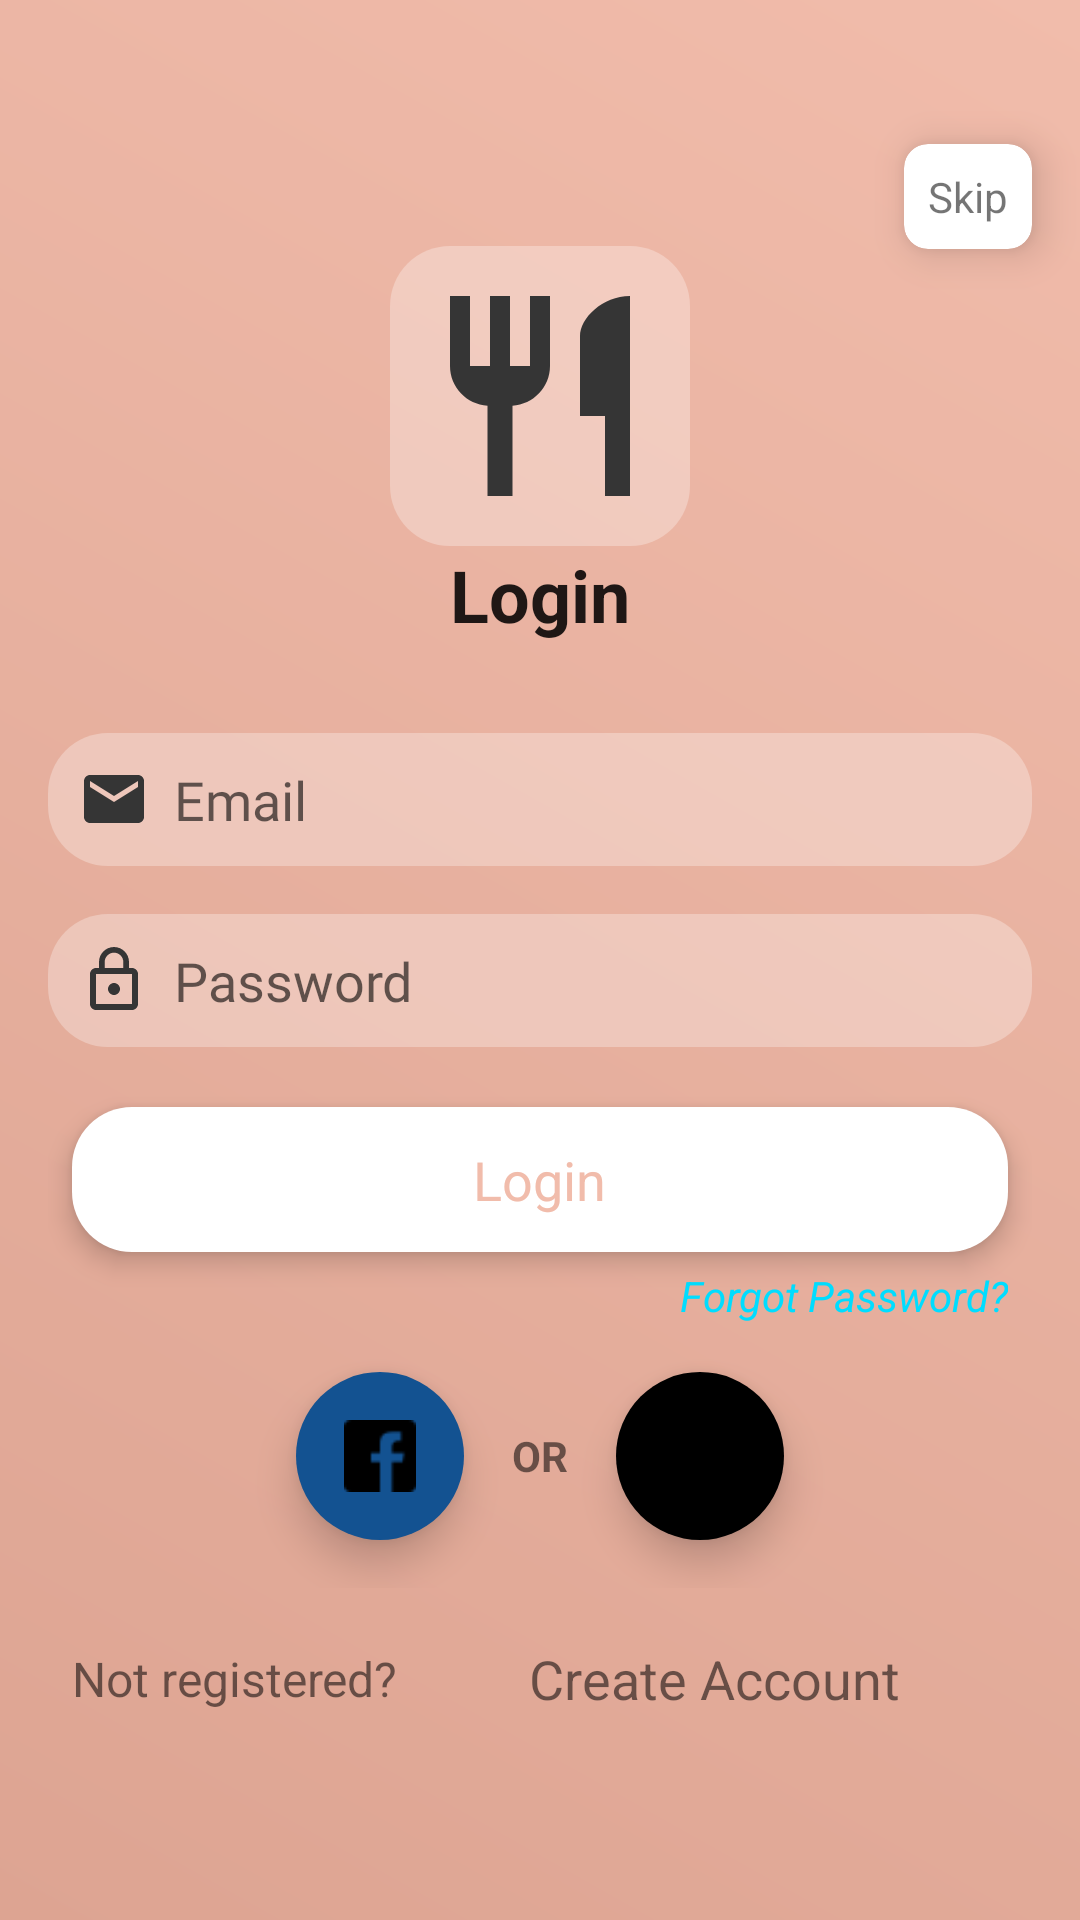

Icon bounding boxes for this 1080x1920 phone screenshot, format (x1, y1, x2, y2):
restaurant: (390, 246, 690, 546)
